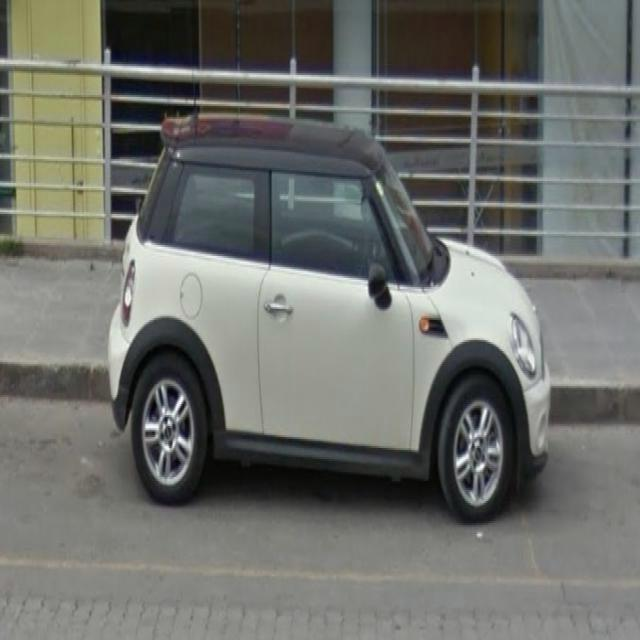Car: (106, 105, 546, 527)
